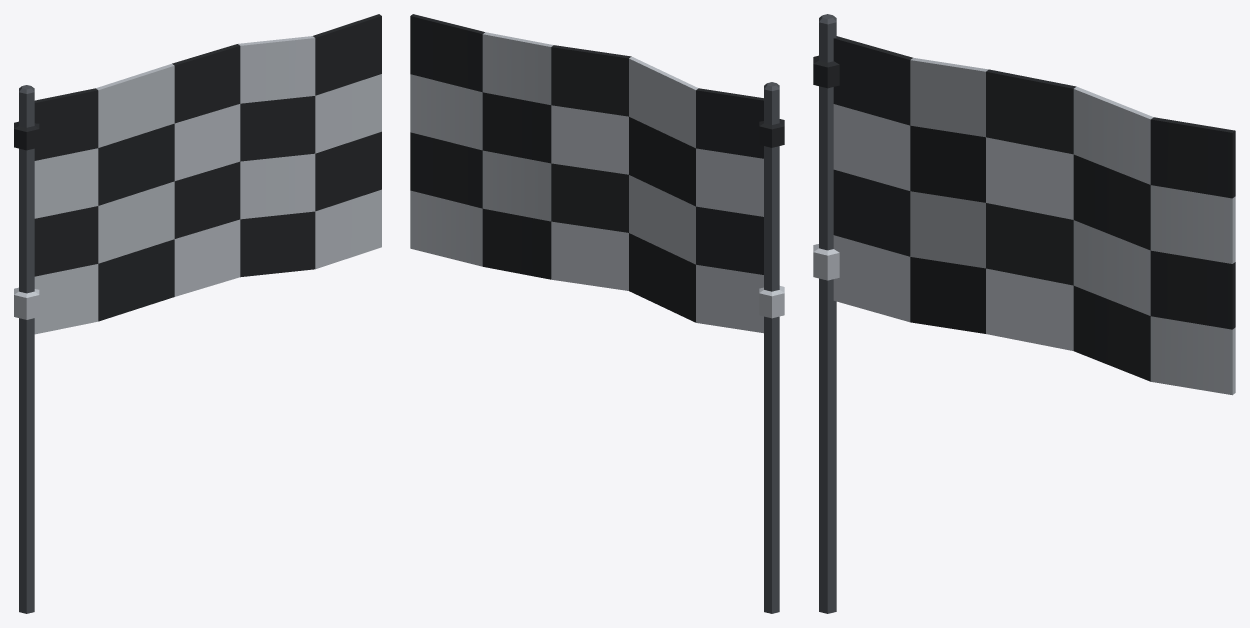
Rendered from flag_chequered.glb.
The picture shows the model from 3 angles, left to right: view 1: azimuth 30°, elevation 25°; view 2: azimuth 150°, elevation 25°; view 3: azimuth 330°, elevation 25°; orthographic projection. The views are drawn at different scales.
Visible parts, largest first — view 1: SM_Prop_Flag_01; view 2: SM_Prop_Flag_01; view 3: SM_Prop_Flag_01.
Boxes of the visible parts, bbox=[...] form: SM_Prop_Flag_01: bbox=[14, 14, 381, 613]; SM_Prop_Flag_01: bbox=[410, 14, 784, 613]; SM_Prop_Flag_01: bbox=[813, 14, 1235, 613].
Size of the model in its own units: 1.03 by 1.4 by 0.0615.
1 material, 1 textured.
